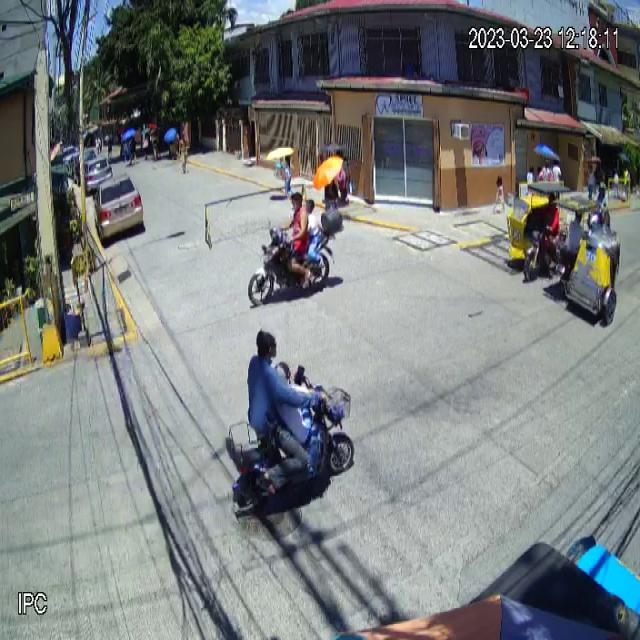Motorcycle: (226, 365, 355, 515), (248, 208, 344, 306)
Tricycle: (554, 192, 620, 327)
